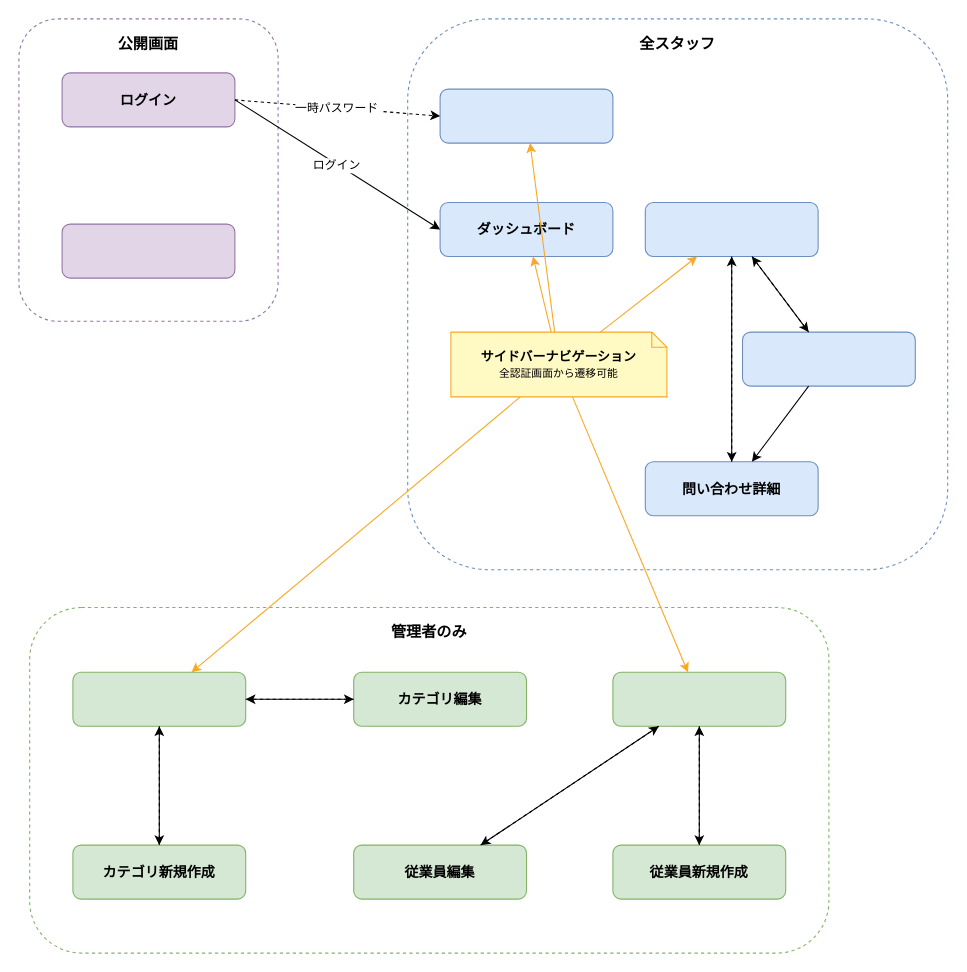
This 967x972 diagram has some shape labels left out. The shapes that lost their labels are listed below. From the top down, each one's centre as x and y in pixels, then its label:
point 526,115: パスワード変更
point 731,228: 問い合わせ一覧
point 148,250: お客様問い合わせ フォーム
point 828,358: 問い合わせ新規作成
point 159,698: カテゴリ一覧
point 699,698: 従業員一覧
